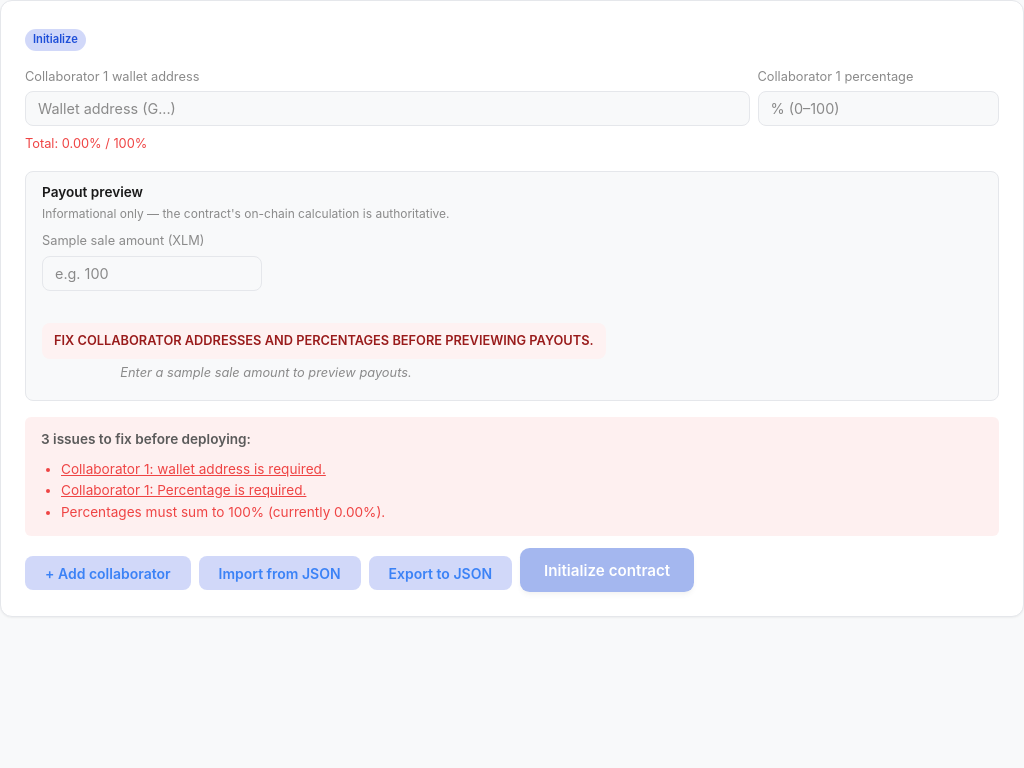
Test case: InitializeForm — accessibility › error messages use role=alert for immediate SR announcement
The width and height of the screenshot is (1024, 768).
Type "BAD" into the field labelled "Collaborator 1 wallet address" at (387, 109), box top-left (25, 91), bottom-right (750, 126)
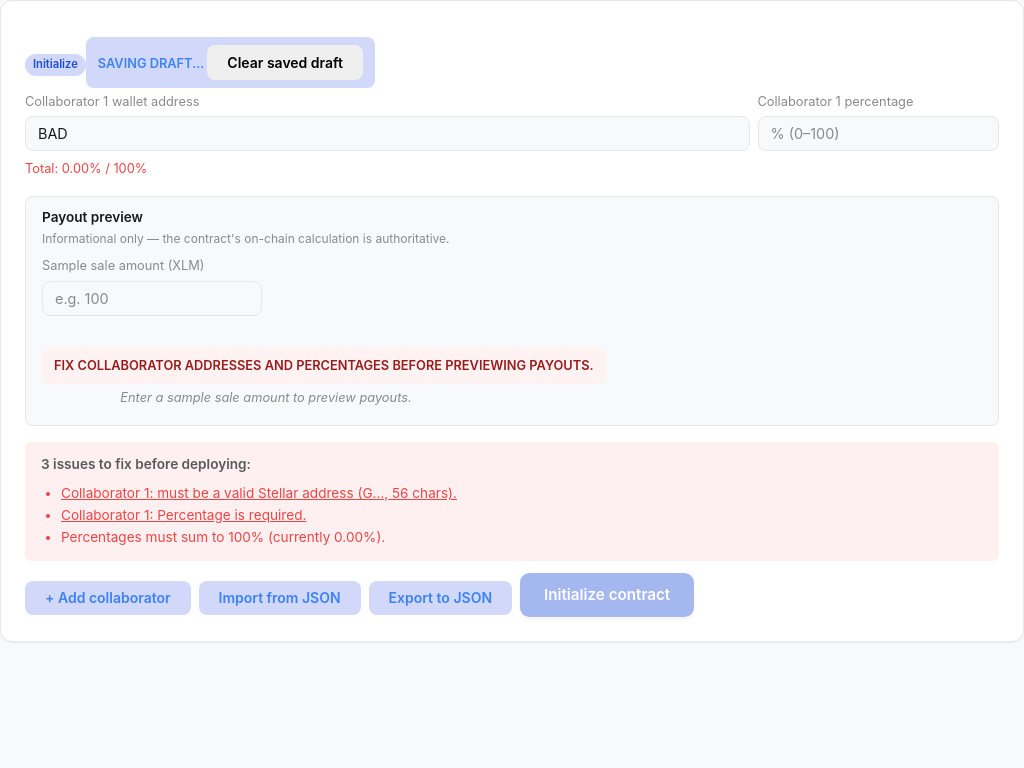
Leave the field labelled "Collaborator 1 wallet address", box top-left (25, 116), bottom-right (750, 151)
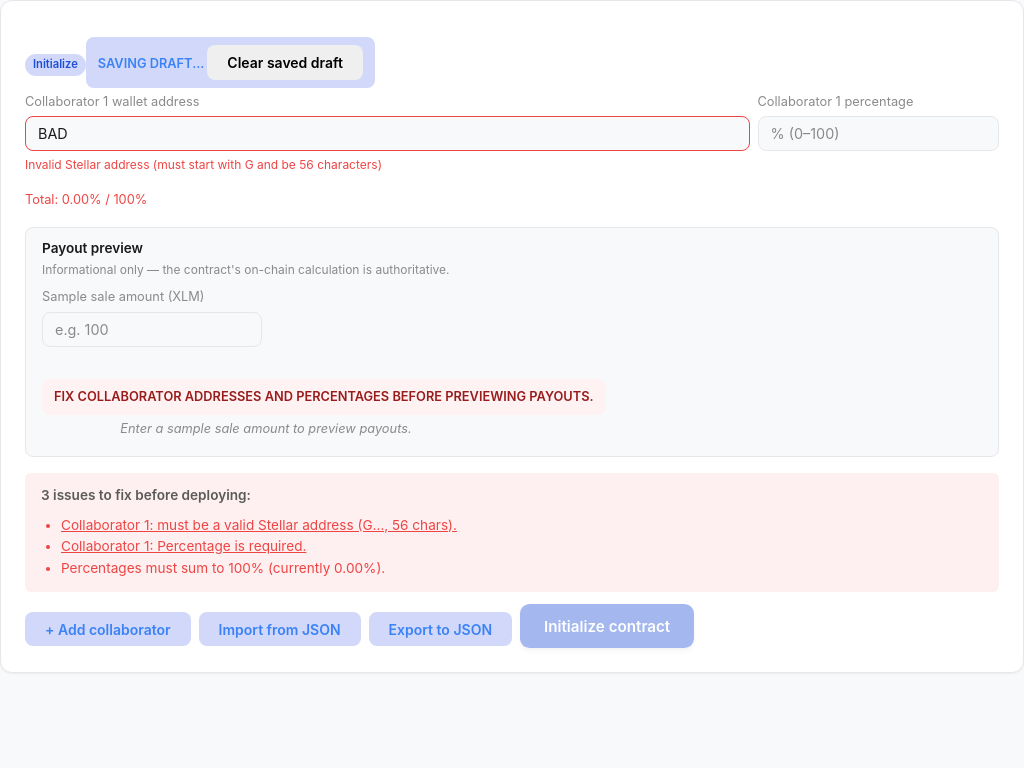
Check: the message "Invalid Stellar address (must start with G and be 56 characters)" is shown, box top-left (25, 157), bottom-right (382, 172)
